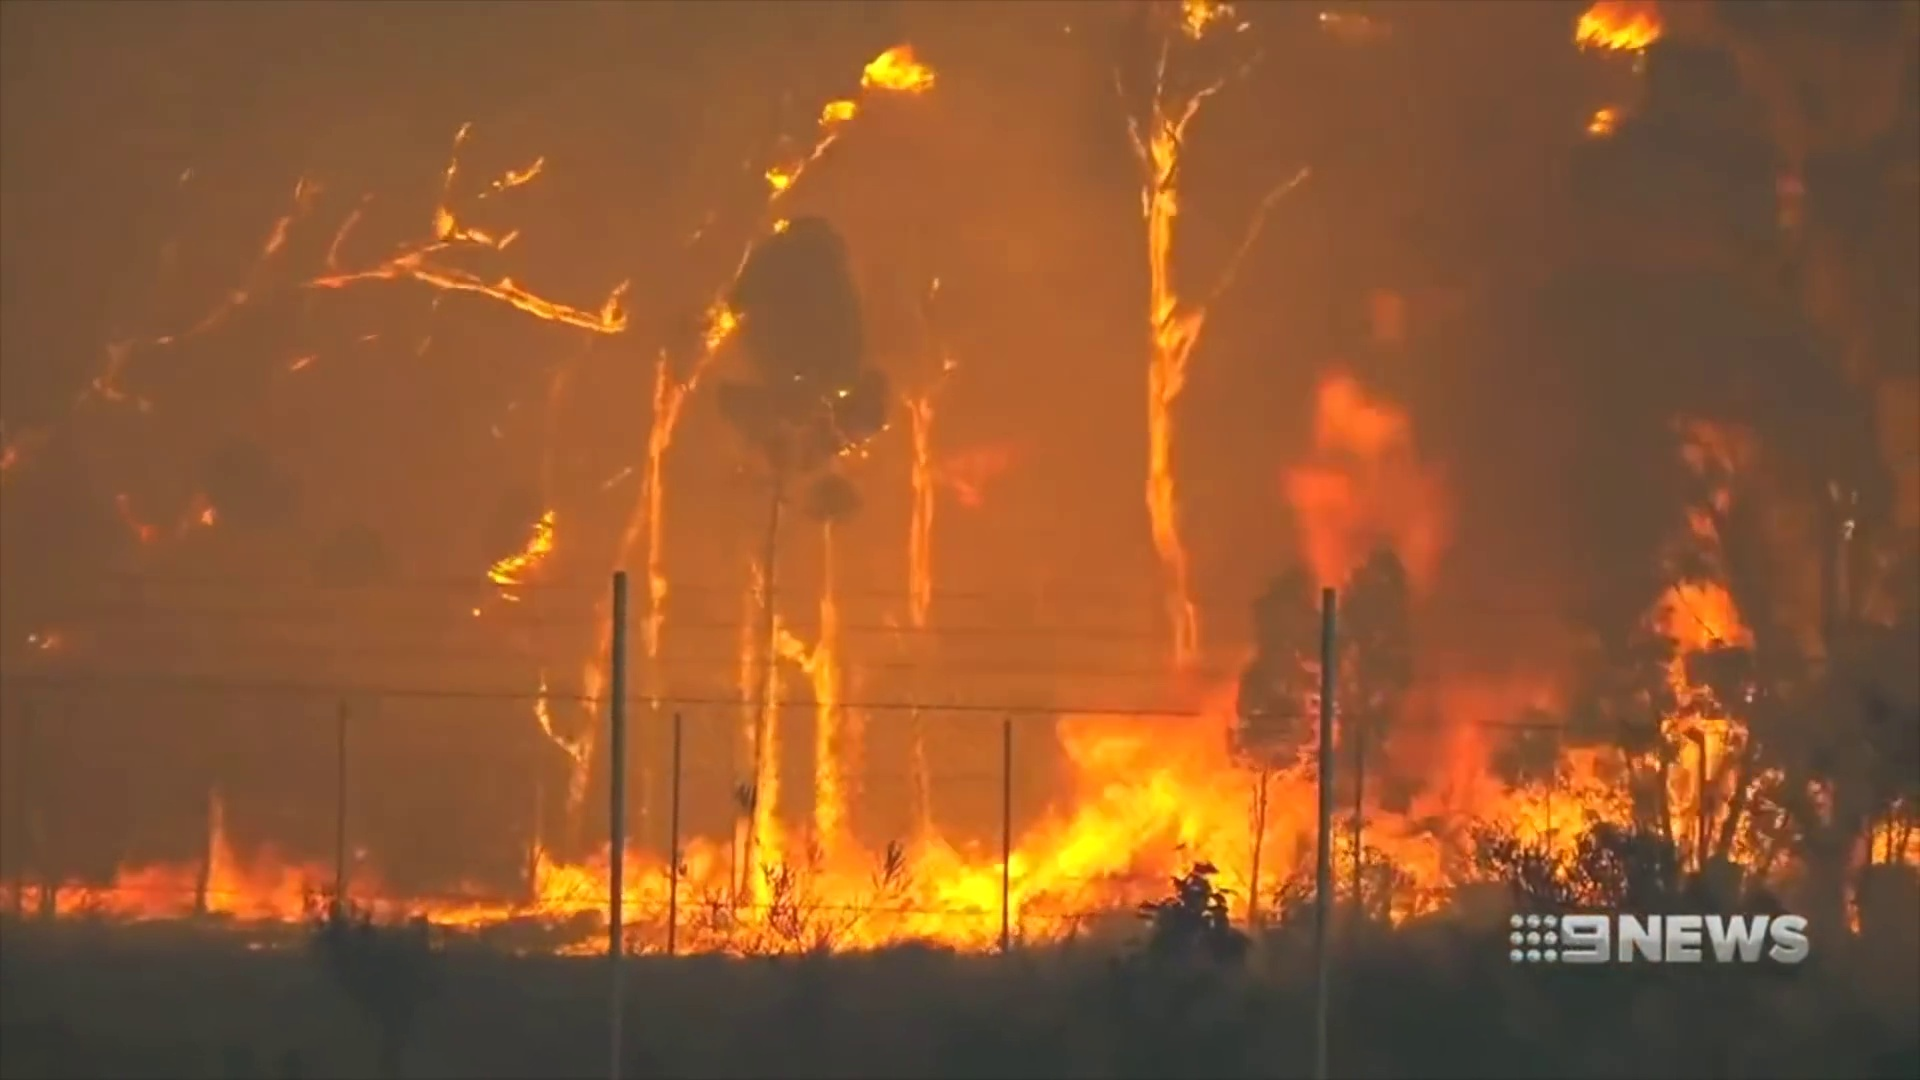fire: (1038, 758, 1590, 959), (524, 833, 1033, 949), (1656, 576, 1749, 869), (1146, 131, 1180, 555), (446, 280, 624, 326), (860, 41, 938, 96), (1577, 4, 1658, 55), (487, 529, 553, 587), (1870, 818, 1920, 866), (1171, 3, 1217, 37)
